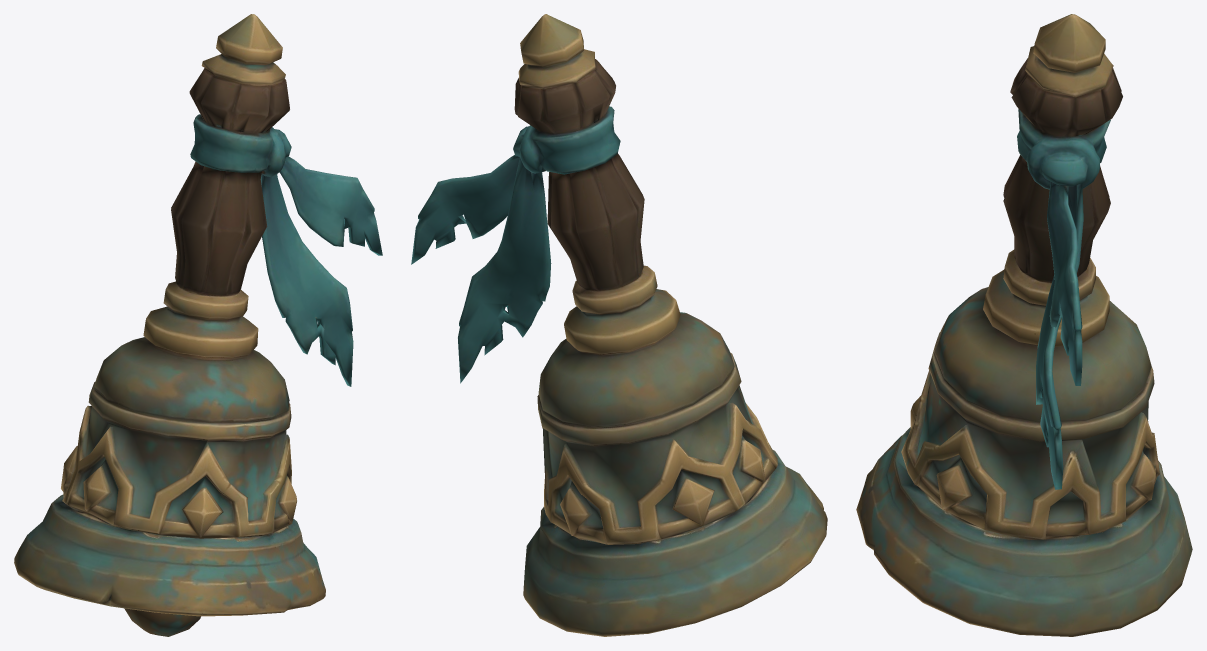
The model's file is tll_ch1_handbell.glb.
3 views of the same model, side by side, from view 1: azimuth 30°, elevation 25°; view 2: azimuth 150°, elevation 25°; view 3: azimuth 270°, elevation 25° (orthographic). The views are drawn at different scales.
Visible parts, largest first — view 1: tripo_node_da61c486-3b80-41d8-88d3-2b399f637bf6; view 2: tripo_node_da61c486-3b80-41d8-88d3-2b399f637bf6; view 3: tripo_node_da61c486-3b80-41d8-88d3-2b399f637bf6.
Part boxes in pixels (<box>): tripo_node_da61c486-3b80-41d8-88d3-2b399f637bf6: <box>14,14,382,636</box>; tripo_node_da61c486-3b80-41d8-88d3-2b399f637bf6: <box>411,14,827,636</box>; tripo_node_da61c486-3b80-41d8-88d3-2b399f637bf6: <box>856,14,1192,636</box>.
Size of the model in its own units: 0.6597 by 0.9771 by 0.4723.
Materials: 1 (1 with a texture image).
